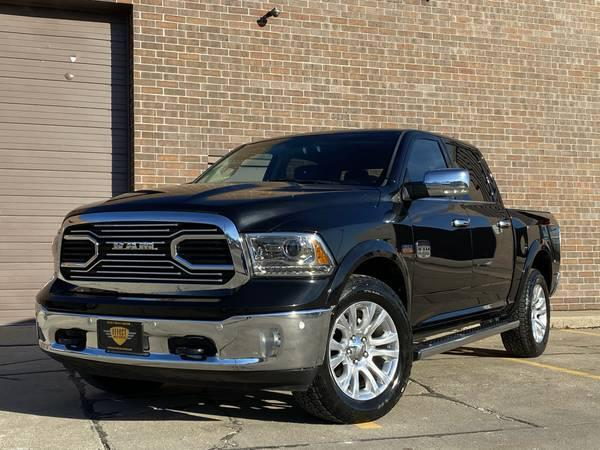Front_Bumper: (34, 269, 346, 382)
Front_Fender: (241, 193, 413, 303)
Front_Left_Door: (392, 202, 470, 329)
Front_Left_Window: (384, 132, 453, 200)
Front_Windshield: (192, 127, 401, 185)
Grille: (53, 212, 255, 293)
Hood: (70, 177, 384, 228)
Left_Headlight: (238, 228, 334, 277)
Rear_Fender: (509, 211, 558, 308)
Rear_Left_Door: (457, 200, 513, 312)
Rear_Left_Window: (443, 138, 500, 201)
Wheel: (303, 268, 413, 419), (498, 273, 553, 363)
